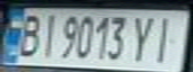0: (75, 12, 96, 61)
1: (93, 12, 112, 61)
3: (106, 12, 133, 62)
9: (57, 11, 81, 60)
B: (12, 10, 45, 58)
I: (145, 12, 187, 64), (33, 10, 60, 58)
Y: (127, 12, 163, 63)
